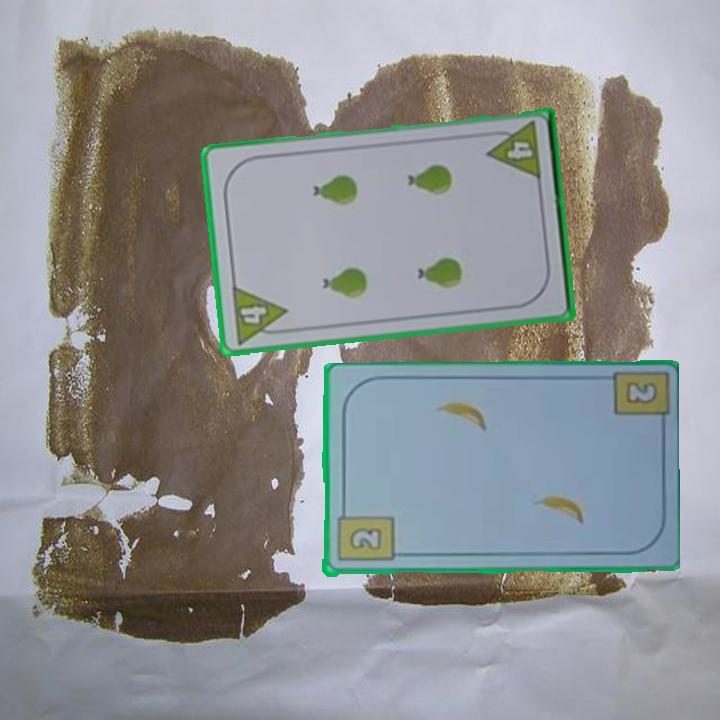2b: (334, 504, 395, 565), (622, 378, 661, 407)
4p: (228, 282, 291, 347), (483, 118, 544, 183)
